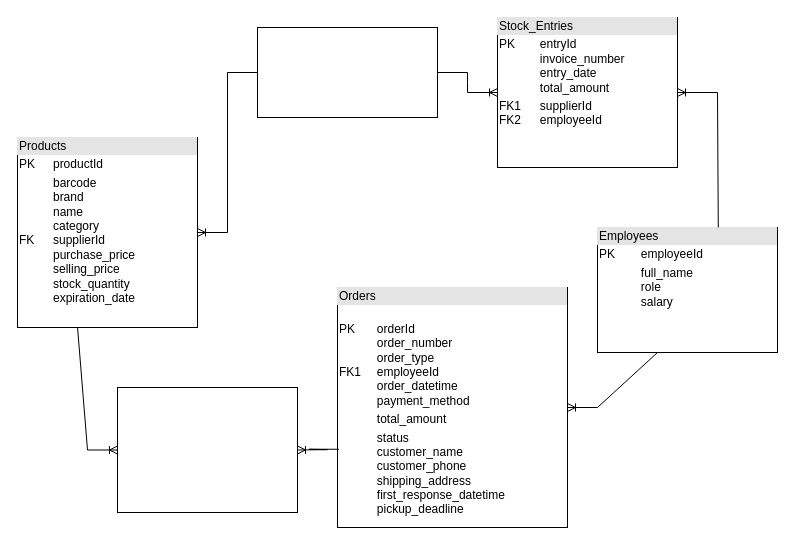
This 795x545 diagram has some shape labels left out. The centre of each missing label's shape, as x and y in pixels:
"Order_Items PK itemId FK1 FK2 orderId productId quantity unit_price" goes at point (207, 449).
"Suppliers PK supplierId company_name phone email" goes at point (347, 72).
